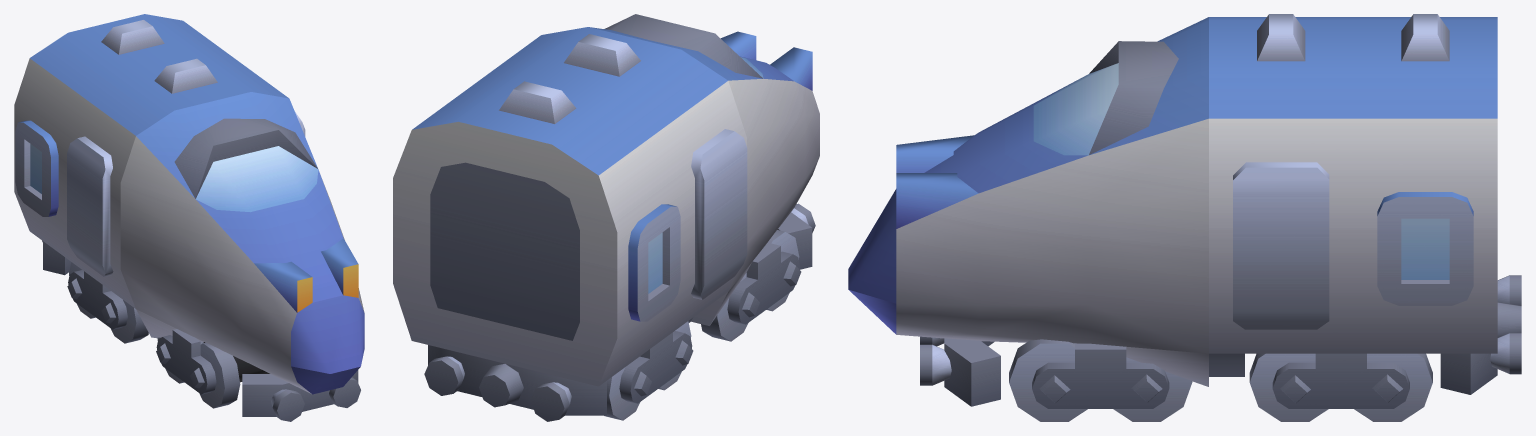
The model's file is snabbtag.glb.
The picture shows the model from 3 angles, left to right: view 1: azimuth 30°, elevation 25°; view 2: azimuth 150°, elevation 25°; view 3: azimuth 270°, elevation 25°; orthographic projection. The views are drawn at different scales.
Visible parts, largest first — view 1: train-electric-bullet-a, wheels-front, wheels-back; view 2: train-electric-bullet-a, wheels-front, wheels-back; view 3: train-electric-bullet-a, wheels-front, wheels-back.
Part boxes in pixels (box(x1,y1,x2,y2)): train-electric-bullet-a: box(14, 14, 364, 421); wheels-front: box(156, 329, 269, 408); wheels-back: box(67, 262, 148, 343); train-electric-bullet-a: box(393, 14, 819, 421); wheels-front: box(701, 230, 801, 341); wheels-back: box(604, 321, 693, 420); train-electric-bullet-a: box(848, 14, 1521, 406); wheels-front: box(1009, 339, 1192, 421); wheels-back: box(1249, 353, 1432, 421).
Size of the model in its own units: 1.32 by 1.64 by 2.8.
Materials: 1 (1 with a texture image).
